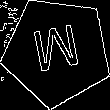M_S: (30, 22, 85, 81)
